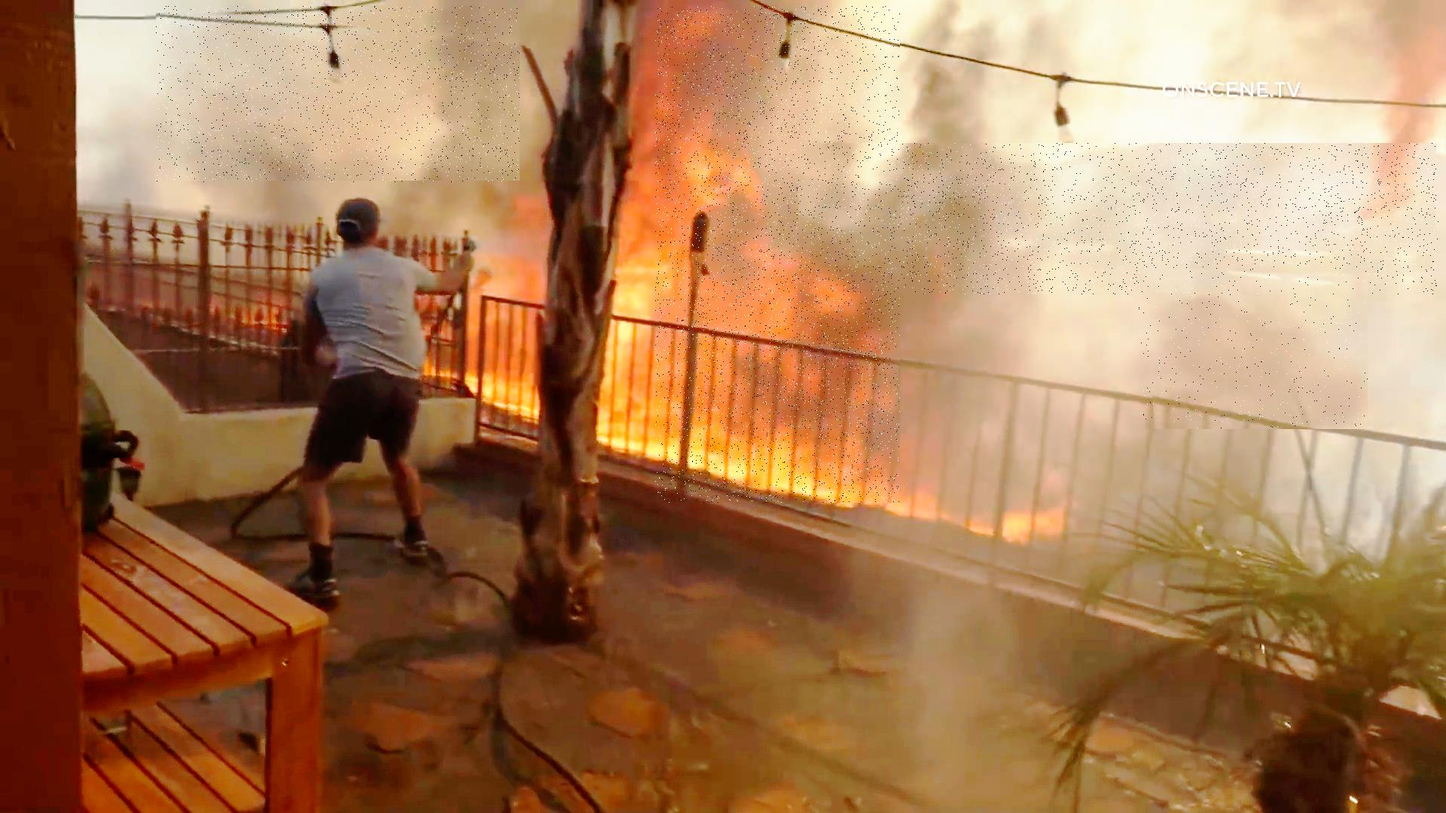fire: (655, 6, 900, 503)
smoke: (799, 143, 1439, 294), (156, 7, 520, 183), (1139, 266, 1370, 429)
